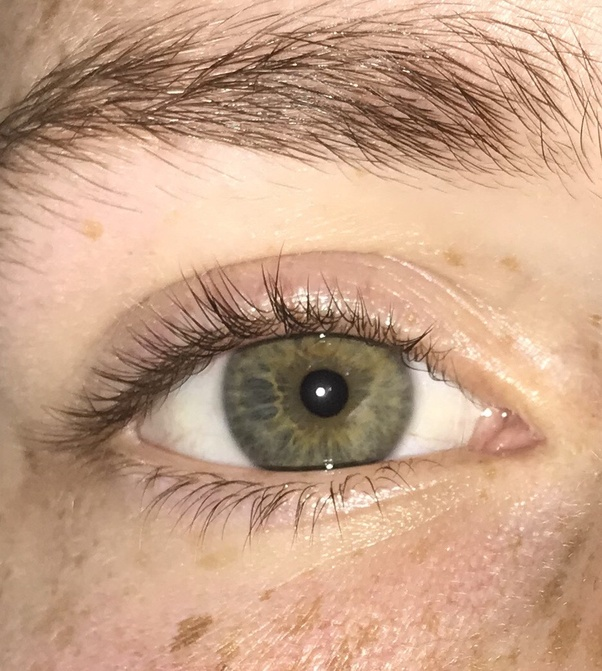iris: (220, 319, 416, 471)
pupil: (302, 370, 347, 415)
